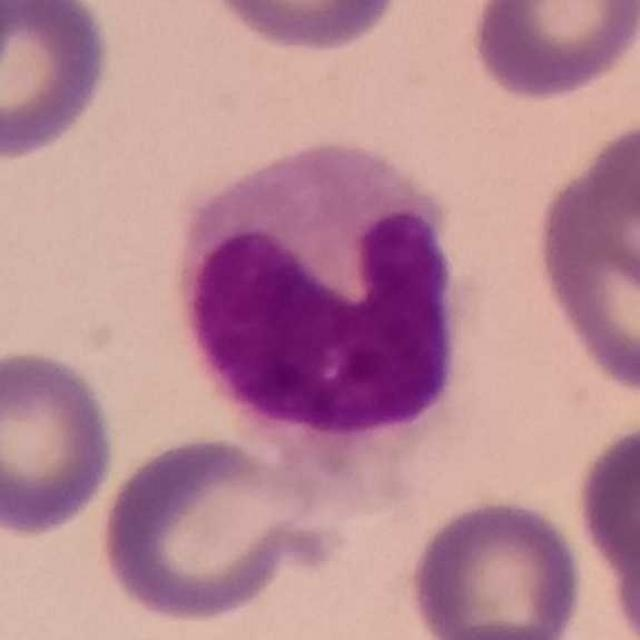mono: (172, 135, 467, 504)
